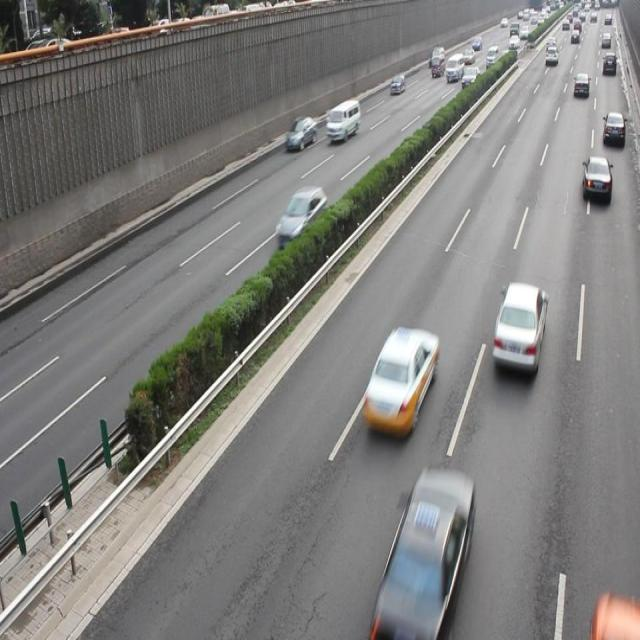car: (377, 469, 472, 626), (361, 324, 436, 438), (490, 280, 545, 378), (274, 187, 326, 250), (580, 155, 610, 203), (285, 114, 316, 152), (600, 109, 624, 149)
truck: (326, 99, 359, 142)
